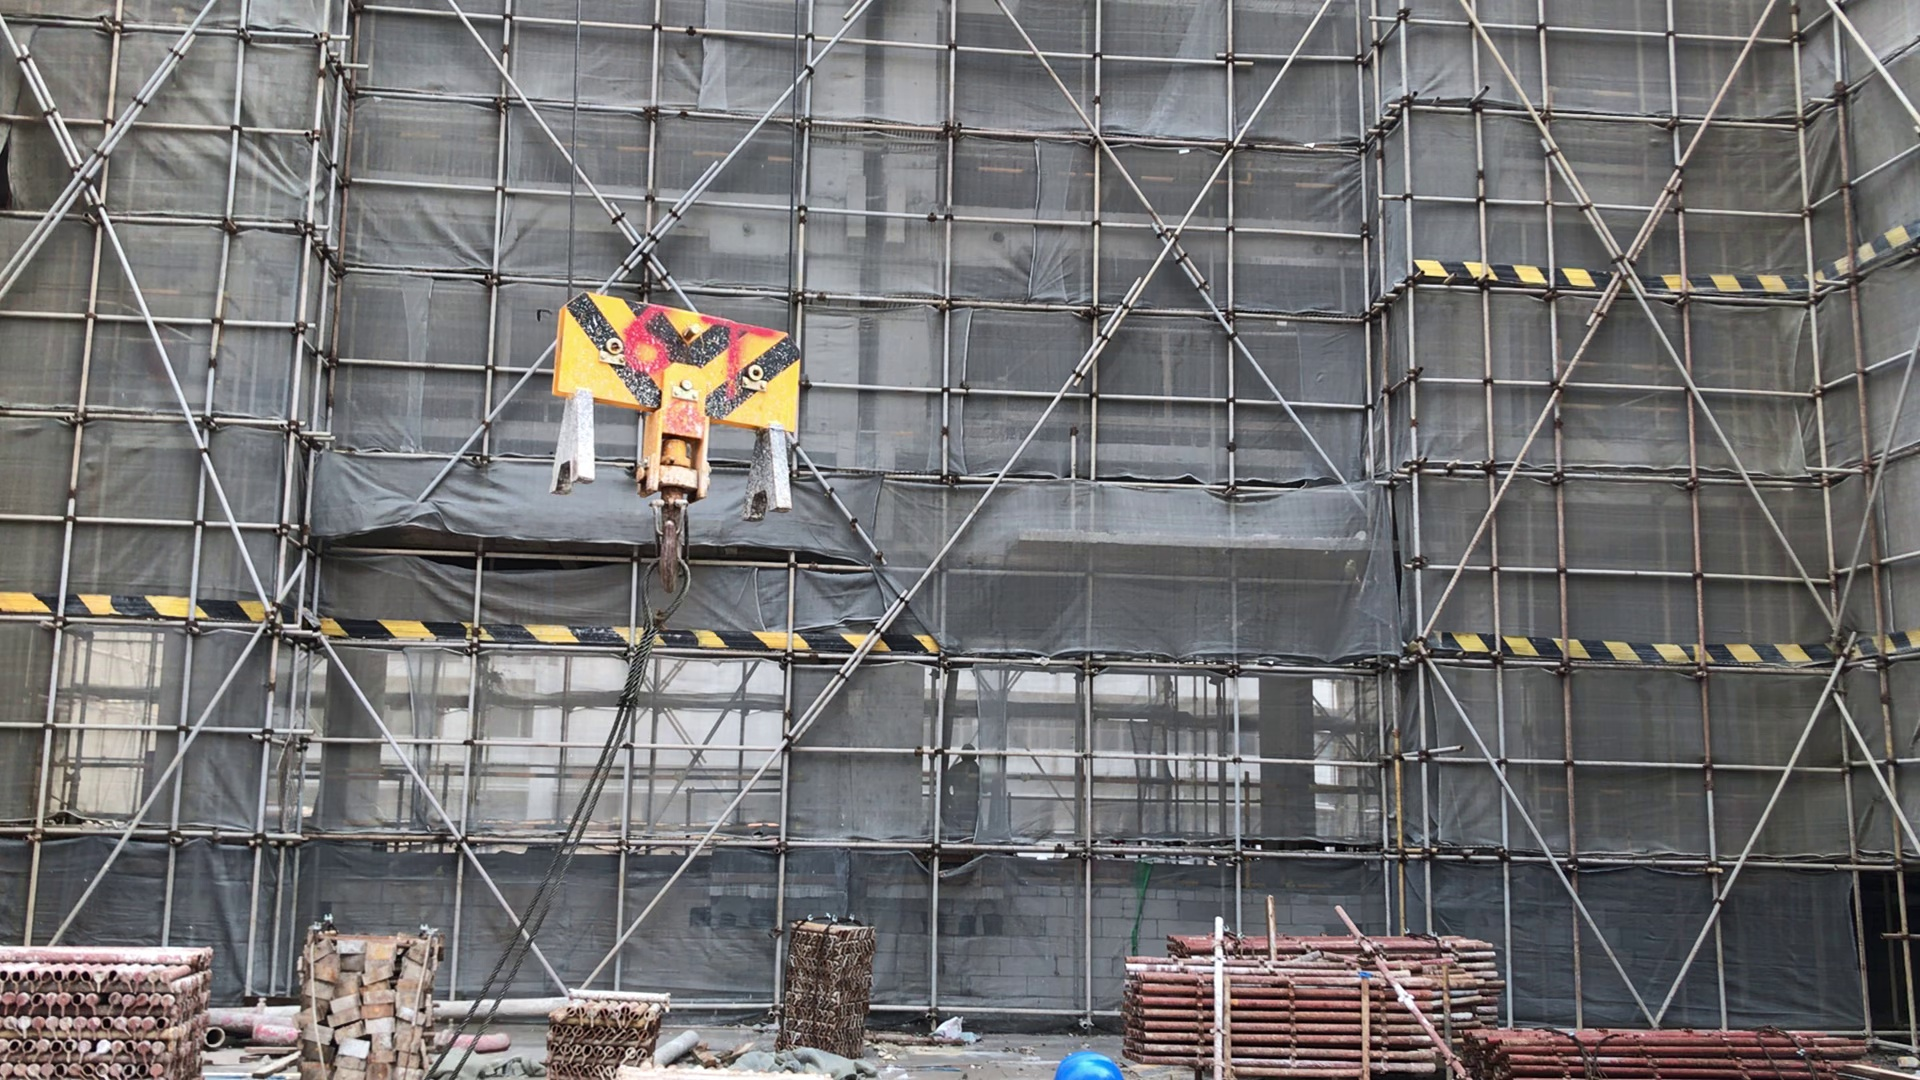helmet: (1039, 1039, 1143, 1080)
hook: (504, 273, 868, 727)
scaffold: (1121, 911, 1888, 1080), (3, 914, 225, 1080)
wood: (284, 907, 475, 1080)
